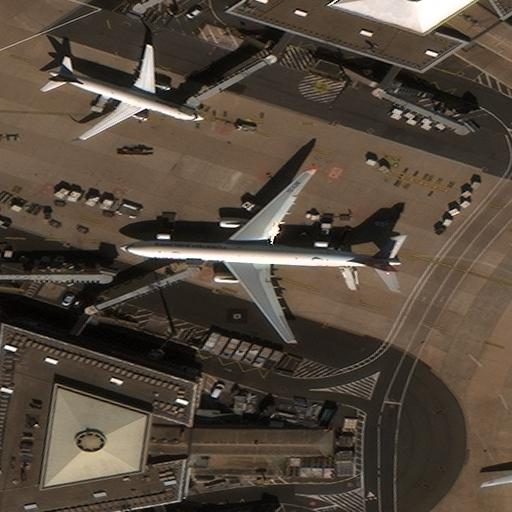Large Civil Transport: (120, 171, 401, 342)
Medium Civil Transport: (49, 45, 203, 141)
